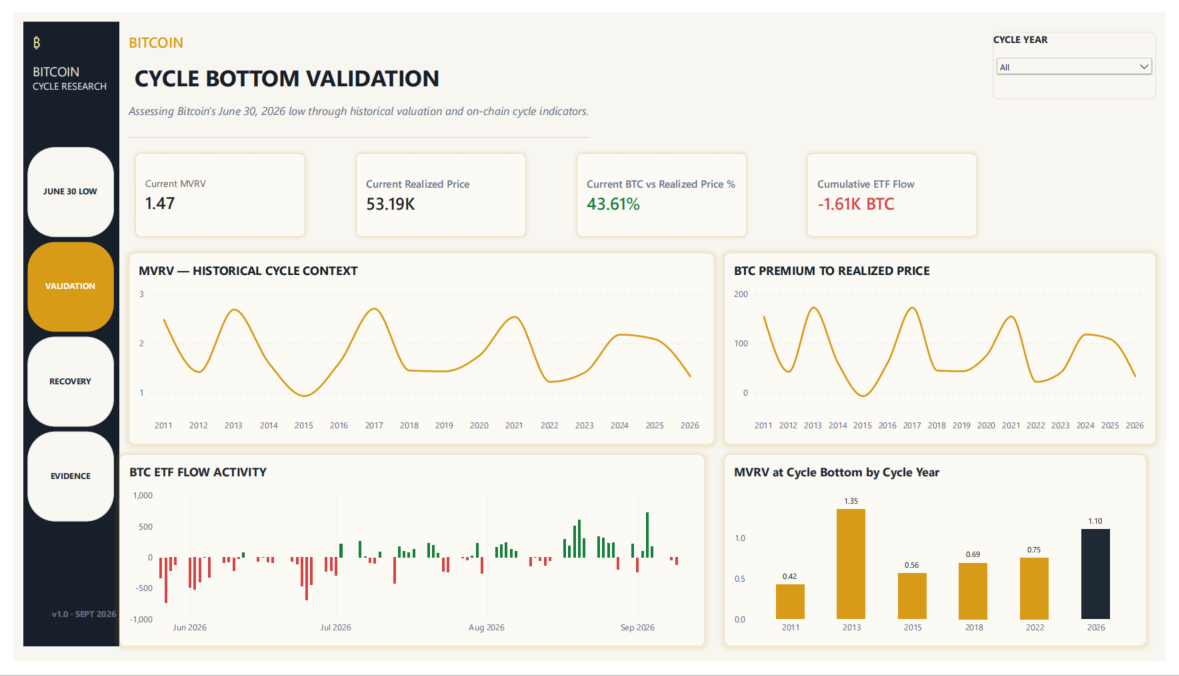

This screenshot's page, from the dashboard's own definition file:
{"tool":"powerbi","page":{"name":"VALIDATION","canvas":[1920,1080],"ordinal":1},"visuals":[{"type":"shape","box":[16,16,160,1040],"z":0},{"type":"textbox","box":[192,32,768,176],"z":1000},{"type":"textbox","box":[32,32,144,112],"z":2000},{"type":"shape","box":[192,192,768,32],"z":3000},{"type":"cardVisual","fields":{"Data":["Measures Table.Current MVRV"]},"box":[192,224,304,160],"z":4000},{"type":"cardVisual","fields":{"Data":["Measures Table.Cumulative ETF Flow"]},"box":[1312,224,304,160],"z":5000},{"type":"cardVisual","fields":{"Data":["Measures Table.Current Realized Price"]},"box":[560,224,304,160],"z":6000},{"type":"cardVisual","fields":{"Data":["Measures Table.Current BTC vs Realized Price %"]},"box":[928,224,304,160],"z":7000},{"type":"lineChart","title":"MVRV — HISTORICAL CYCLE CONTEXT","fields":{"Category":["BTC Market Daily.Date.Variation.Date Hierarchy.Year"],"Y":["Avg(BTC Market Daily.MVRV)"]},"box":[192,400,976,320],"z":8000},{"type":"lineChart","title":"BTC PREMIUM TO REALIZED PRICE","fields":{"Category":["BTC Market Daily.Date.Variation.Date Hierarchy.Year"],"Y":["Avg(BTC Market Daily.BTC vs Realized Price %)"]},"box":[1184,400,720,320],"z":9000},{"type":"slicer","title":"CYCLE YEAR","fields":{"Values":["Dim Cycle.Cycle Year"]},"box":[1632,32,272,112],"z":10000},{"type":"clusteredColumnChart","title":"BTC ETF FLOW ACTIVITY","fields":{"Category":["ETF Flows Daily.Date"],"Y":["Sum(ETF Flows Daily.Net ETF Flow (USD M))"]},"box":[176,736,976,320],"z":11000},{"type":"clusteredColumnChart","fields":{"Category":["Dim Cycle.Cycle Year"],"Y":["Measures Table.MVRV at Cycle Bottom"]},"box":[1184,736,704,320],"z":12000},{"type":"pageNavigator","box":[22.9,224.3,144.3,624.3],"z":12001},{"type":"textbox","box":[64,992,112,48],"z":12002}]}

Visuals, with their boxes in screenshot pixels (x1, y1, x2, y2), scaled from the page's 1920x1080 canvas onto the 1179x676 screenshot:
shape: 10/10/108/661
textbox: 118/20/590/130
textbox: 20/20/108/90
shape: 118/120/590/140
cardVisual - Measures Table.Current MVRV: 118/140/305/240
cardVisual - Measures Table.Cumulative ETF Flow: 806/140/992/240
cardVisual - Measures Table.Current Realized Price: 344/140/531/240
cardVisual - Measures Table.Current BTC vs Realized Price %: 570/140/757/240
"MVRV — HISTORICAL CYCLE CONTEXT" lineChart: 118/250/717/451
"BTC PREMIUM TO REALIZED PRICE" lineChart: 727/250/1169/451
"CYCLE YEAR" slicer: 1002/20/1169/90
"BTC ETF FLOW ACTIVITY" clusteredColumnChart: 108/461/707/661
clusteredColumnChart - Dim Cycle.Cycle Year x Measures Table.MVRV at Cycle Bottom: 727/461/1159/661
pageNavigator: 14/140/103/531
textbox: 39/621/108/651
